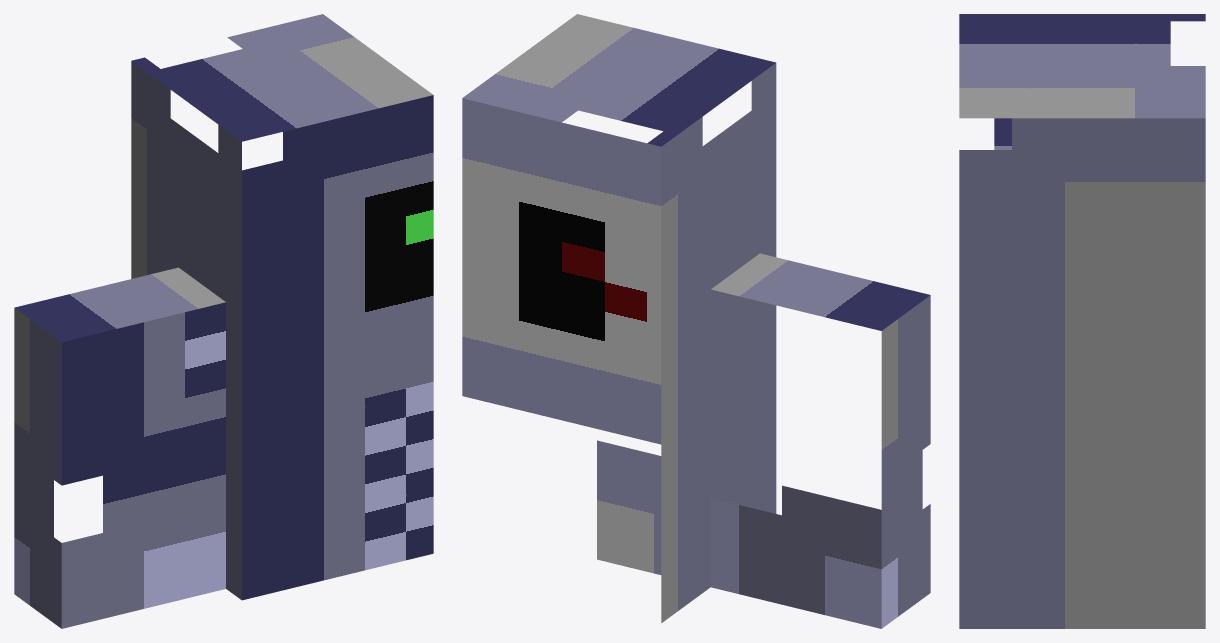
The model's file is hitek_tile_039.gltf.
The picture shows the model from 3 angles, left to right: view 1: azimuth 30°, elevation 25°; view 2: azimuth 150°, elevation 25°; view 3: azimuth 270°, elevation 25°; orthographic projection. The views are drawn at different scales.
Parts seen in each view (by area): view 1: hitek_tile_039; view 2: hitek_tile_039; view 3: hitek_tile_039.
Boxes of the visible parts, x1=… form: hitek_tile_039: x1=14, y1=14, x2=433, y2=628; hitek_tile_039: x1=462, y1=14, x2=930, y2=628; hitek_tile_039: x1=959, y1=14, x2=1205, y2=628.
Bounding box in the file's own units: 8.67 × 10.67 × 4.67.
1 material, 1 textured.
